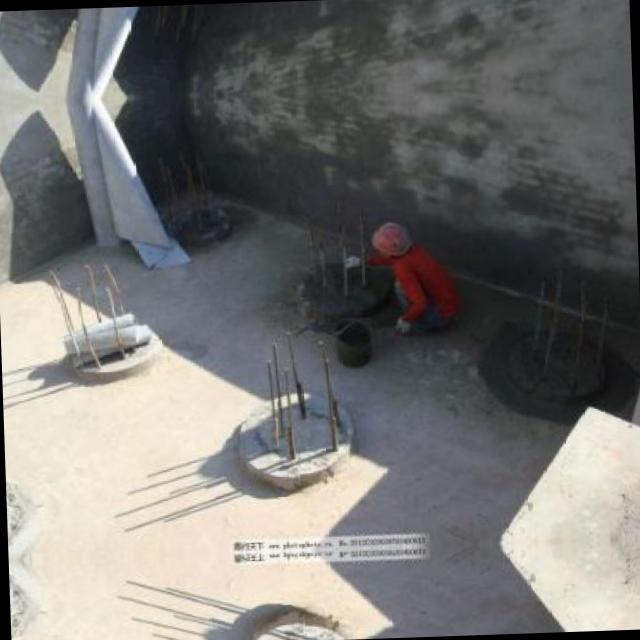helmet: (362, 213, 417, 264)
